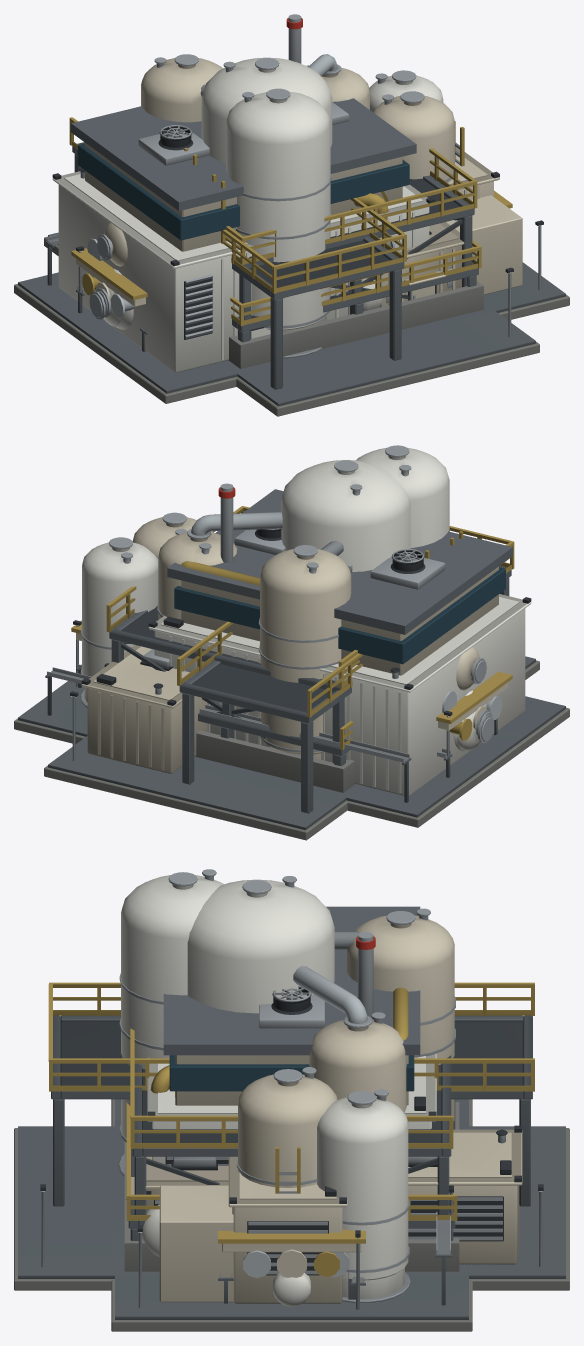
Rendered from buildings.glb.
The picture shows the model from 3 angles, top to bottom: view 1: azimuth 30°, elevation 25°; view 2: azimuth 150°, elevation 25°; view 3: azimuth 270°, elevation 25°; orthographic projection. The views are drawn at different scales.
Parts seen in each view (by area): view 1: bld_3x2_a, bld_2x3_a, bld_2x2_a, bld_2x2_b, bld_3x1_c, bld_2x2_e, bld_3x1_b, bld_3x1_a, bld_3x1_d; view 2: bld_3x2_a, bld_2x3_a, bld_2x2_a, bld_2x2_b, bld_3x1_a, bld_3x1_c, bld_3x1_b, bld_2x2_e, bld_3x1_d; view 3: bld_2x3_a, bld_3x2_a, bld_2x2_a, bld_3x1_c, bld_3x1_b, bld_3x1_a, bld_3x1_d, bld_2x2_b, bld_2x2_e.
Part boxes in pixels (box(x1,y1,x2,y2)): bld_3x2_a: box(14, 14, 569, 403); bld_2x3_a: box(44, 54, 539, 416); bld_2x2_a: box(184, 54, 477, 377); bld_2x2_b: box(228, 281, 483, 368); bld_3x1_c: box(76, 91, 464, 351); bld_2x2_e: box(230, 240, 481, 342); bld_3x1_b: box(89, 147, 499, 326); bld_3x1_a: box(55, 262, 524, 373); bld_3x1_d: box(71, 190, 512, 306); bld_3x2_a: box(14, 483, 569, 827); bld_2x3_a: box(44, 445, 539, 840); bld_2x2_a: box(104, 460, 429, 797); bld_2x2_b: box(195, 730, 355, 792); bld_3x1_a: box(63, 664, 527, 788); bld_3x1_c: box(133, 512, 497, 756); bld_3x1_b: box(73, 620, 494, 750); bld_2x2_e: box(198, 713, 353, 765); bld_3x1_d: box(71, 620, 512, 730); bld_2x3_a: box(14, 869, 569, 1290); bld_3x2_a: box(111, 906, 472, 1331); bld_2x2_a: box(112, 876, 471, 1279); bld_3x1_c: box(218, 1067, 337, 1303); bld_3x1_b: box(228, 1156, 360, 1309); bld_3x1_a: box(209, 1249, 374, 1331); bld_3x1_d: box(218, 1229, 365, 1252); bld_2x2_b: box(124, 1102, 459, 1271); bld_2x2_e: box(126, 1099, 457, 1240).
Bounding box in the file's own units: 2.86 × 1.74 × 2.86.
